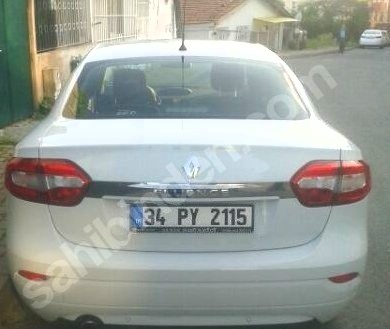plaka: (141, 202, 251, 228)
